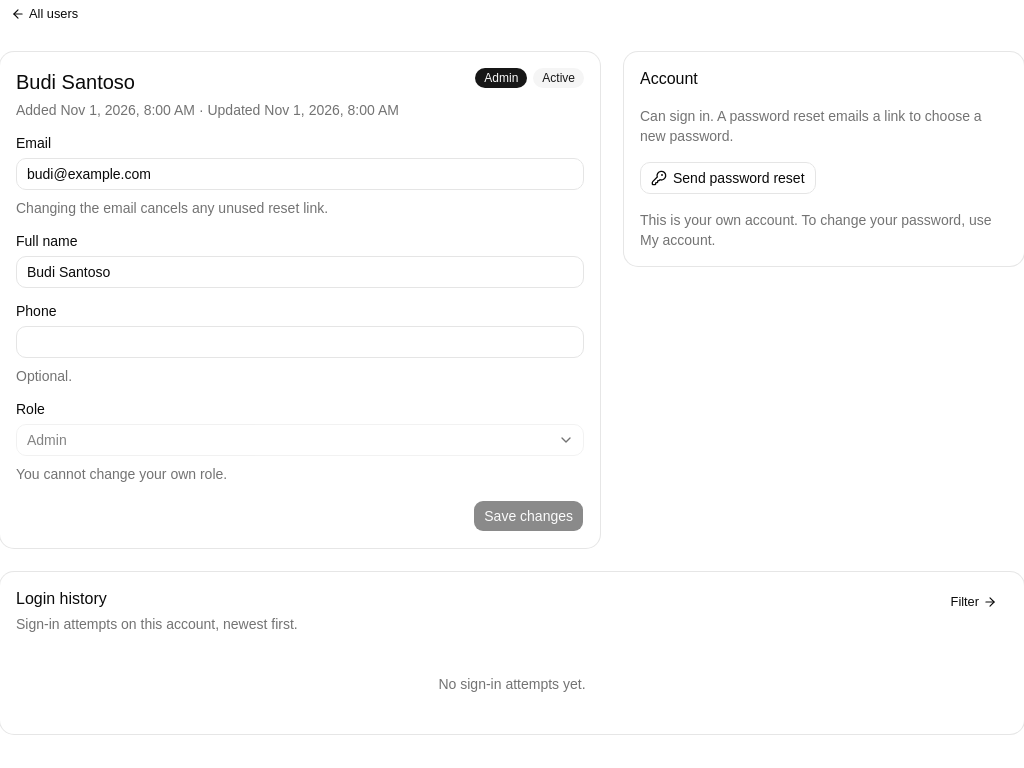
Test: UserDetailPage › locks the role on the admin’s own account
Expected: the dropdown labelled "Role" is disabled, [16,424,584,456]
Expected: the text "You cannot change your own role." is shown, [16,466,227,482]
Replace the text in the field labelled "Full name" with "Budi S." at [300, 272], box [16,256,584,288]
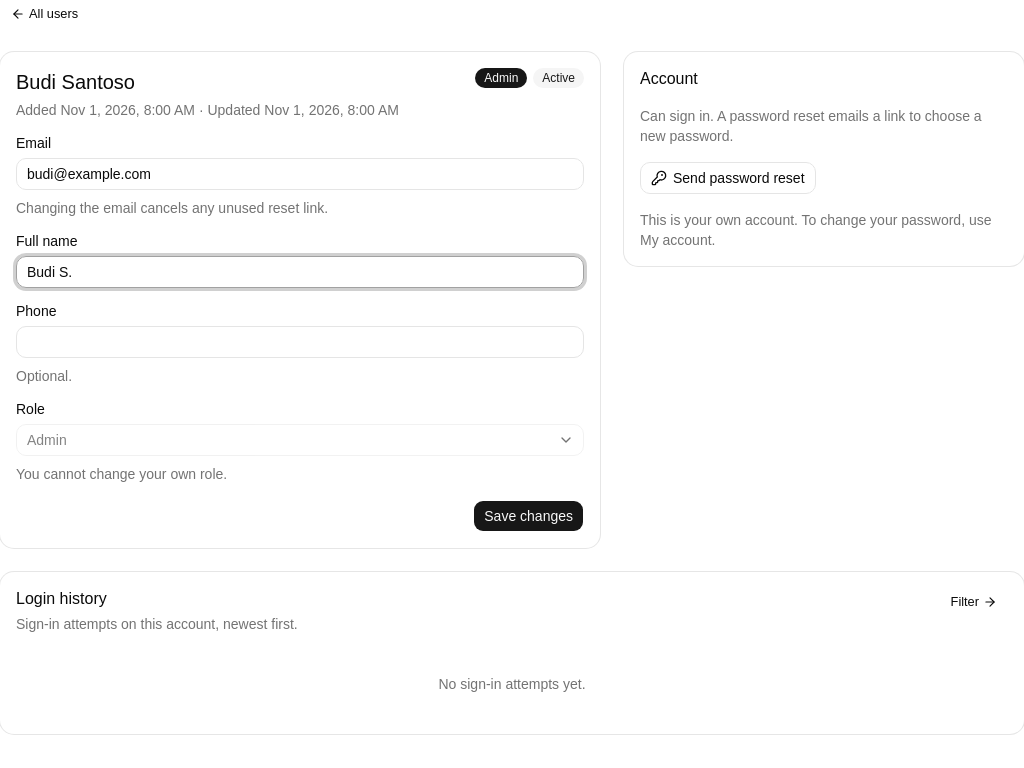
Click the button "Save changes" at [529, 516], box [473,500,584,532]
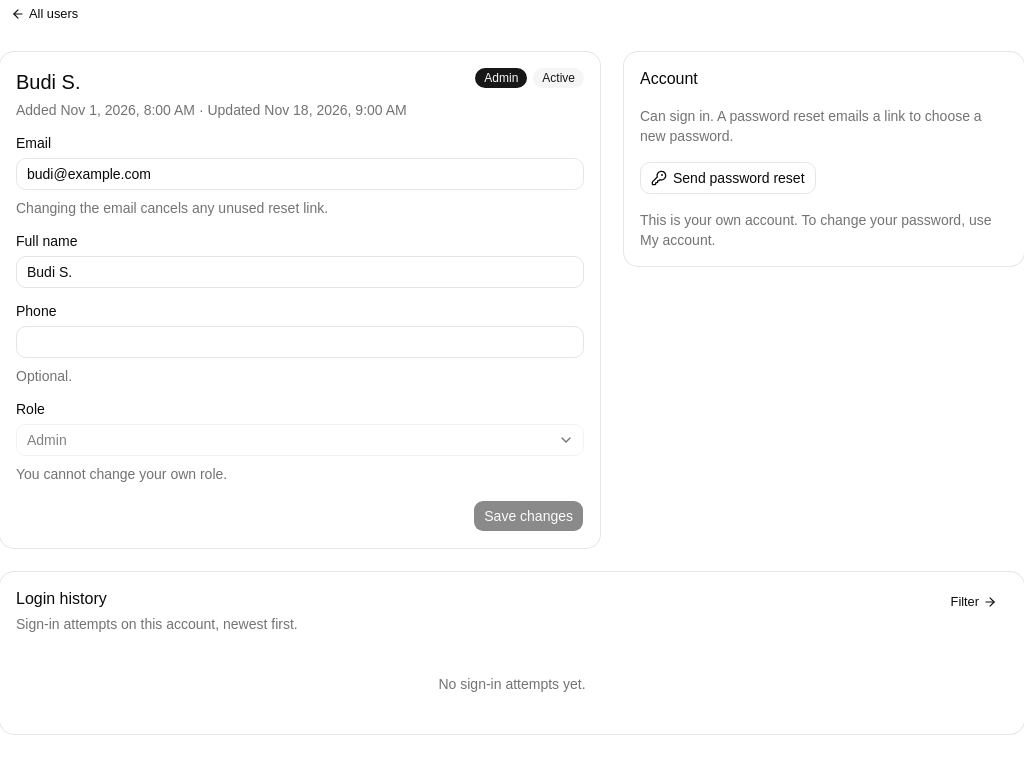
Expected: the text "Budi S." is shown, [16,71,80,93]
